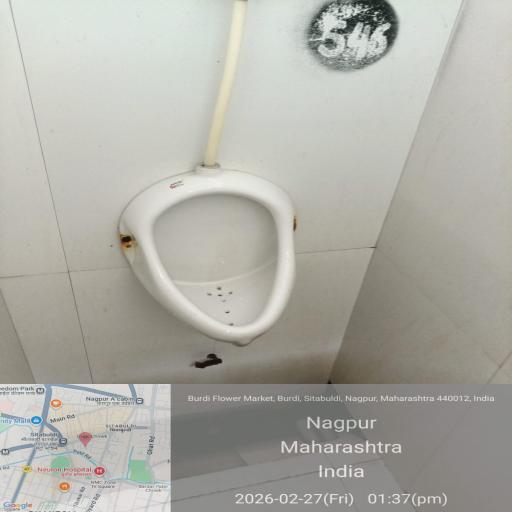clean_urinal: (112, 88, 368, 373)
partial_dirty_floor: (34, 343, 512, 512)
